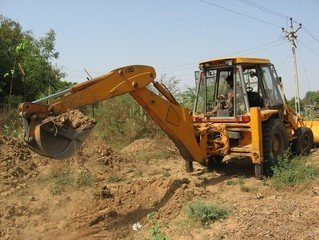excavator: (19, 54, 314, 173)
